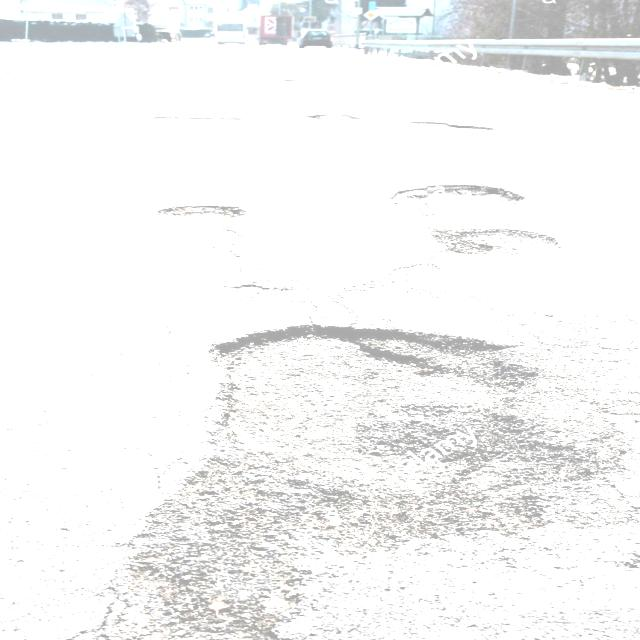Pothole: (65, 321, 640, 640), (381, 181, 564, 270), (149, 111, 506, 137), (133, 200, 267, 228)
